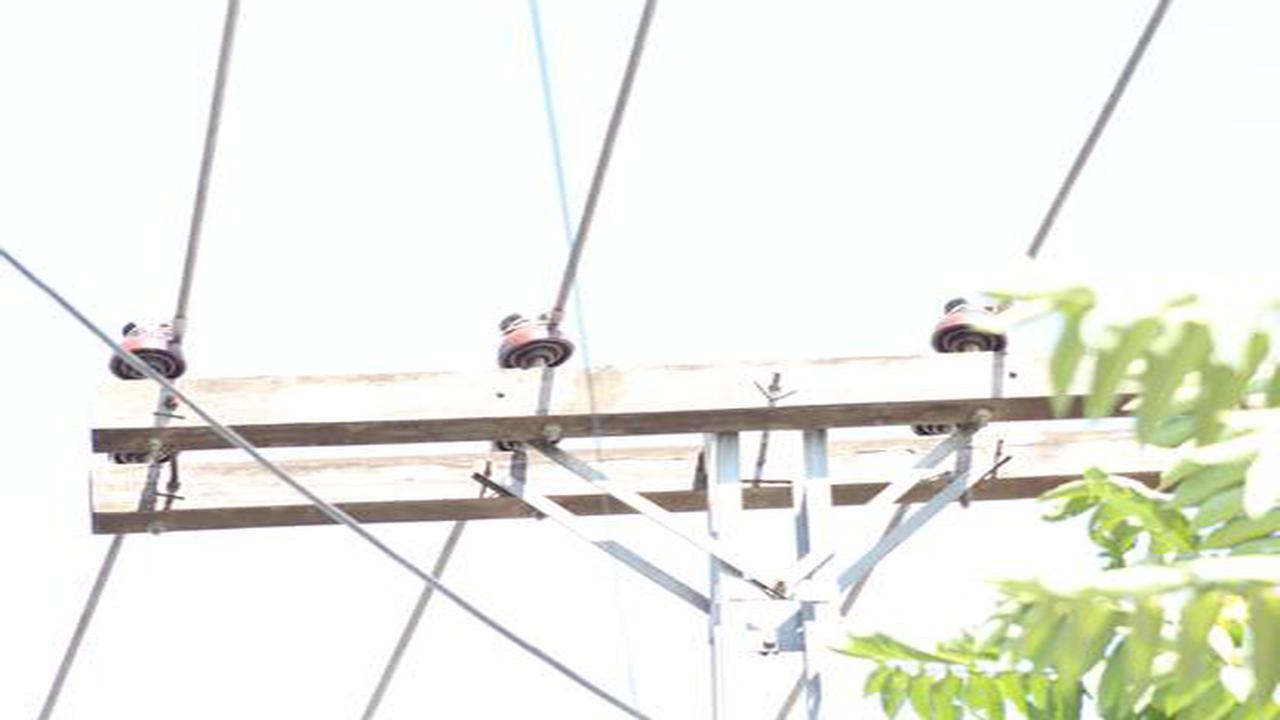insulator_pin: (928, 291, 1015, 357), (106, 314, 189, 381), (497, 309, 580, 369)
